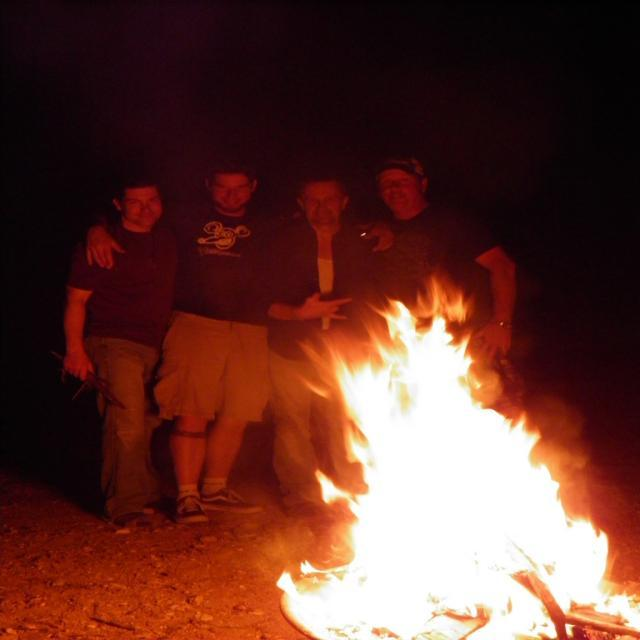Fire: (250, 294, 640, 634)
